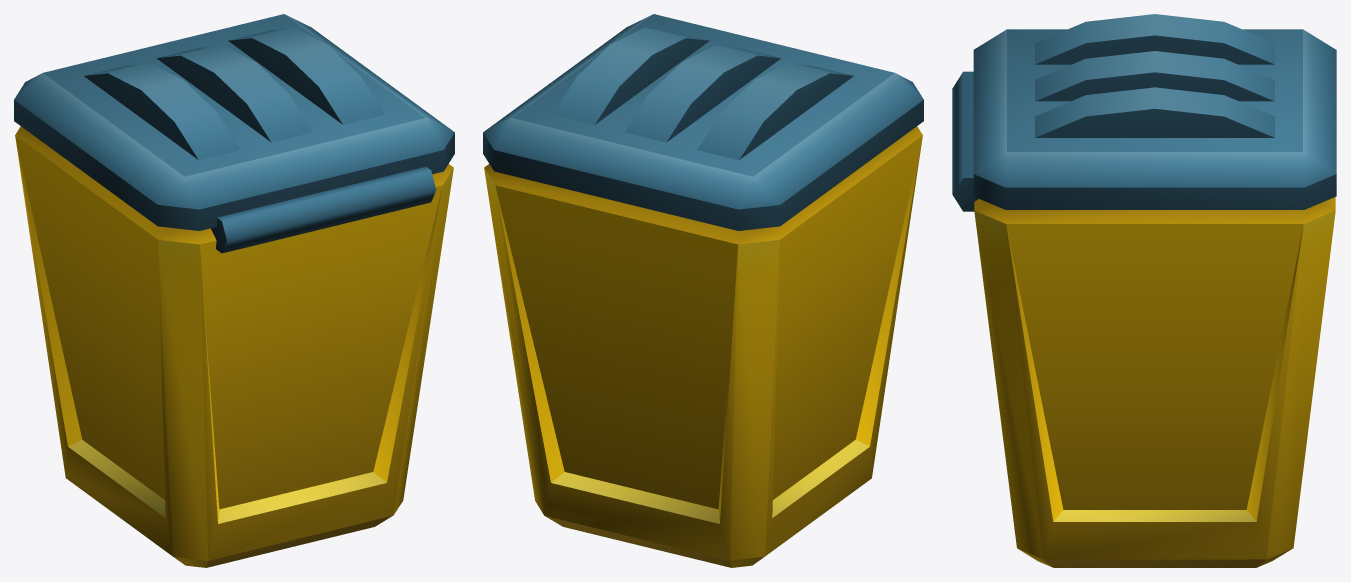
File: Trash_Container_4A.fbx
3 renders of one model, left to right at view 1: azimuth 30°, elevation 25°; view 2: azimuth 150°, elevation 25°; view 3: azimuth 270°, elevation 25°, orthographic. The views are drawn at different scales.
Visible parts, largest first — view 1: Trash_Container_4A, Trash_Container_4A_Lid; view 2: Trash_Container_4A, Trash_Container_4A_Lid; view 3: Trash_Container_4A, Trash_Container_4A_Lid.
Boxes of the visible parts, x1=… form: Trash_Container_4A: x1=15, y1=126, x2=453, y2=567; Trash_Container_4A_Lid: x1=14, y1=14, x2=454, y2=230; Trash_Container_4A: x1=484, y1=126, x2=922, y2=567; Trash_Container_4A_Lid: x1=483, y1=14, x2=923, y2=230; Trash_Container_4A: x1=952, y1=71, x2=1335, y2=567; Trash_Container_4A_Lid: x1=973, y1=14, x2=1336, y2=209.
Bounding box in the file's own units: 104 × 146 × 111.
